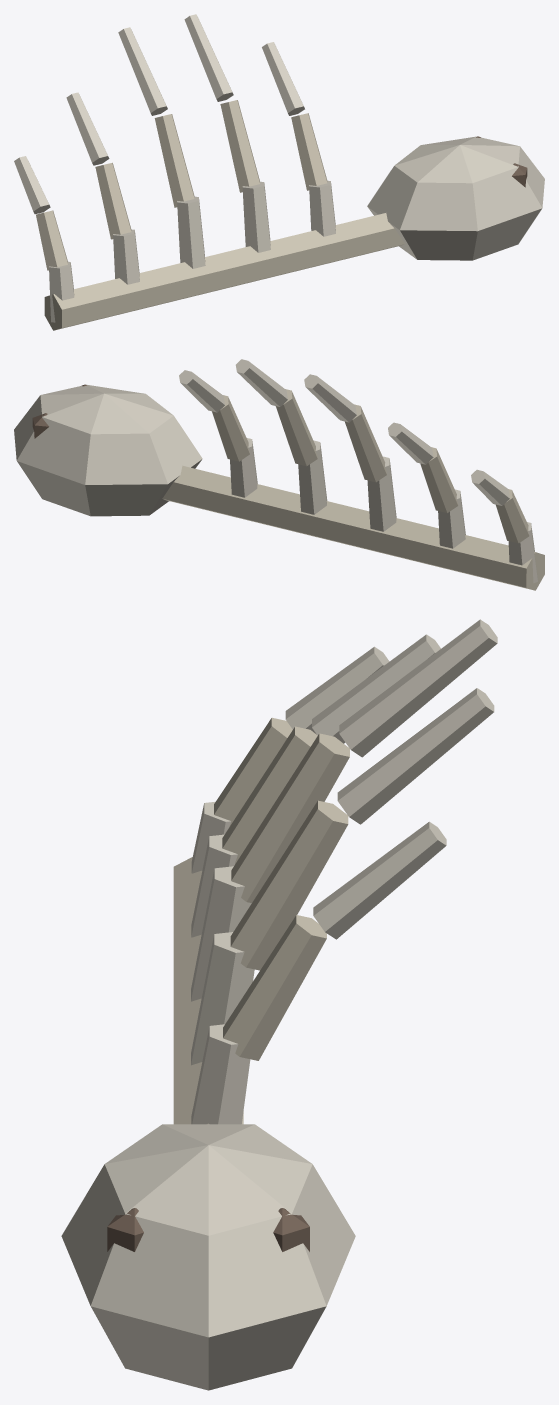
Rendered from tarhut_ossos_0.glb.
3 views of the same model, one above another, from view 1: azimuth 30°, elevation 25°; view 2: azimuth 150°, elevation 25°; view 3: azimuth 270°, elevation 25° (orthographic). The views are drawn at different scales.
Parts seen in each view (by area): view 1: ossos; view 2: ossos; view 3: ossos.
Part boxes in pixels (x1,y1,x2,y2): ossos: (14, 14, 544, 330); ossos: (14, 359, 544, 590); ossos: (61, 619, 497, 1390).
Size of the model in its own units: 3.4 by 1.59 by 1.3.
